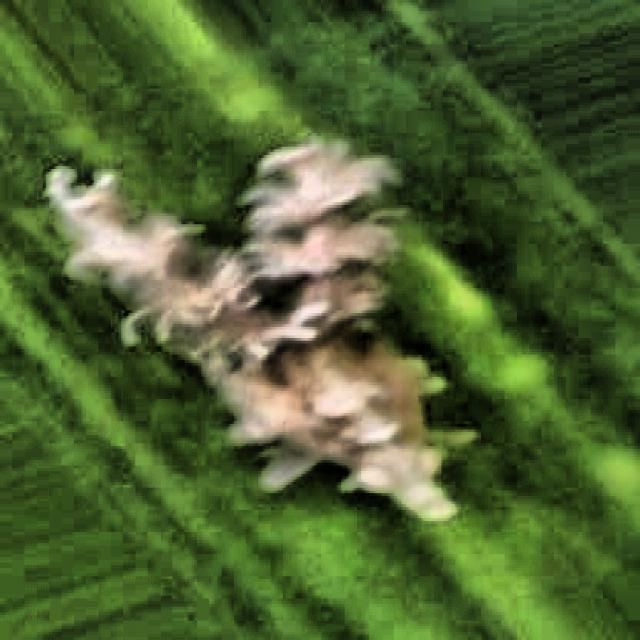Pyrilla-perpusilla: (53, 146, 484, 520)
